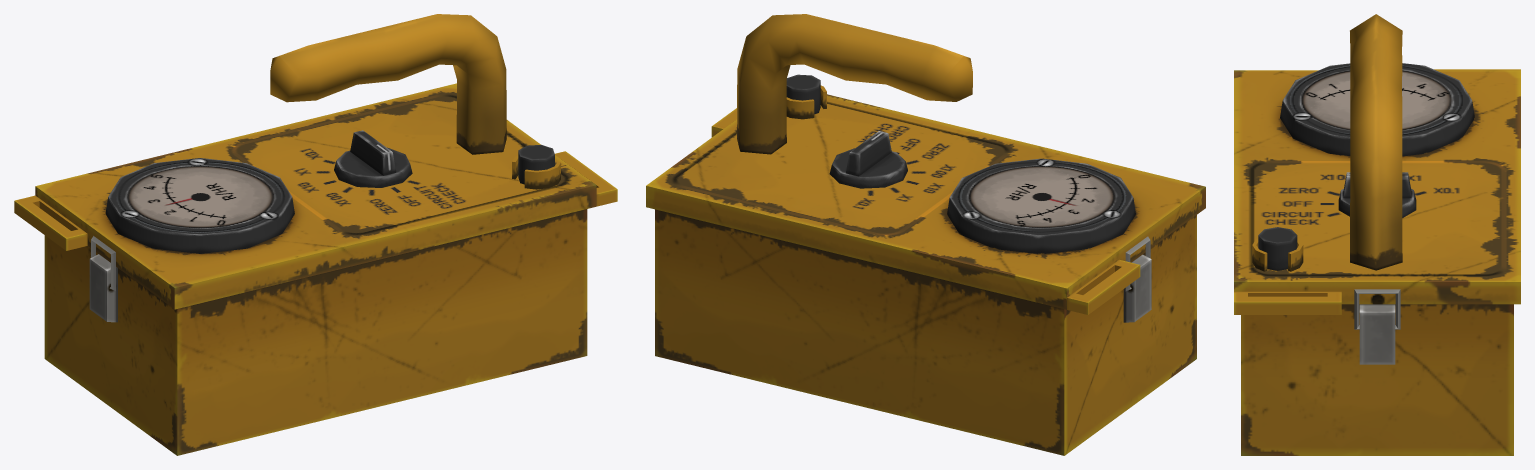
File: ITEM_geigerCounter.fbx
The picture shows the model from 3 angles, left to right: view 1: azimuth 30°, elevation 25°; view 2: azimuth 150°, elevation 25°; view 3: azimuth 270°, elevation 25°; orthographic projection. The views are drawn at different scales.
Parts seen in each view (by area): view 1: ITEM_geigerCounter; view 2: ITEM_geigerCounter; view 3: ITEM_geigerCounter.
Boxes of the visible parts, left/top/right/bottom form: ITEM_geigerCounter: left=14, top=14, right=617, bottom=455; ITEM_geigerCounter: left=646, top=14, right=1205, bottom=455; ITEM_geigerCounter: left=1234, top=14, right=1520, bottom=455.
Bounding box in the file's own units: 28.29 × 18.31 × 14.71.
